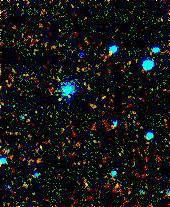star: (47, 84, 77, 114)
